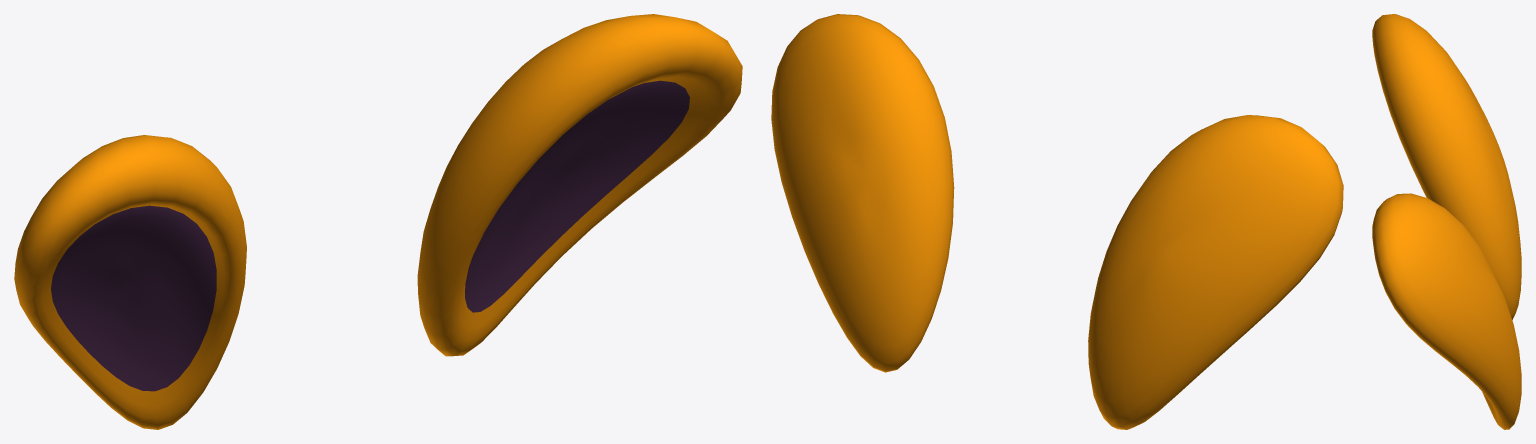
The model's file is rabbit.glb.
3 renders of one model, left to right at view 1: azimuth 30°, elevation 25°; view 2: azimuth 150°, elevation 25°; view 3: azimuth 270°, elevation 25°, orthographic. The views are drawn at different scales.
Visible parts, largest first — view 1: Object001, Sphere001; view 2: Sphere001, Object001; view 3: Sphere001, Object001.
Part boxes in pixels (bbox=[...]): Object001: bbox=[417, 14, 742, 356]; Sphere001: bbox=[14, 135, 246, 429]; Sphere001: bbox=[1088, 115, 1343, 429]; Object001: bbox=[771, 14, 954, 372]; Sphere001: bbox=[1372, 14, 1521, 319]; Object001: bbox=[1372, 193, 1521, 429].
Size of the model in its own units: 1.11 by 0.5403 by 0.2774.
